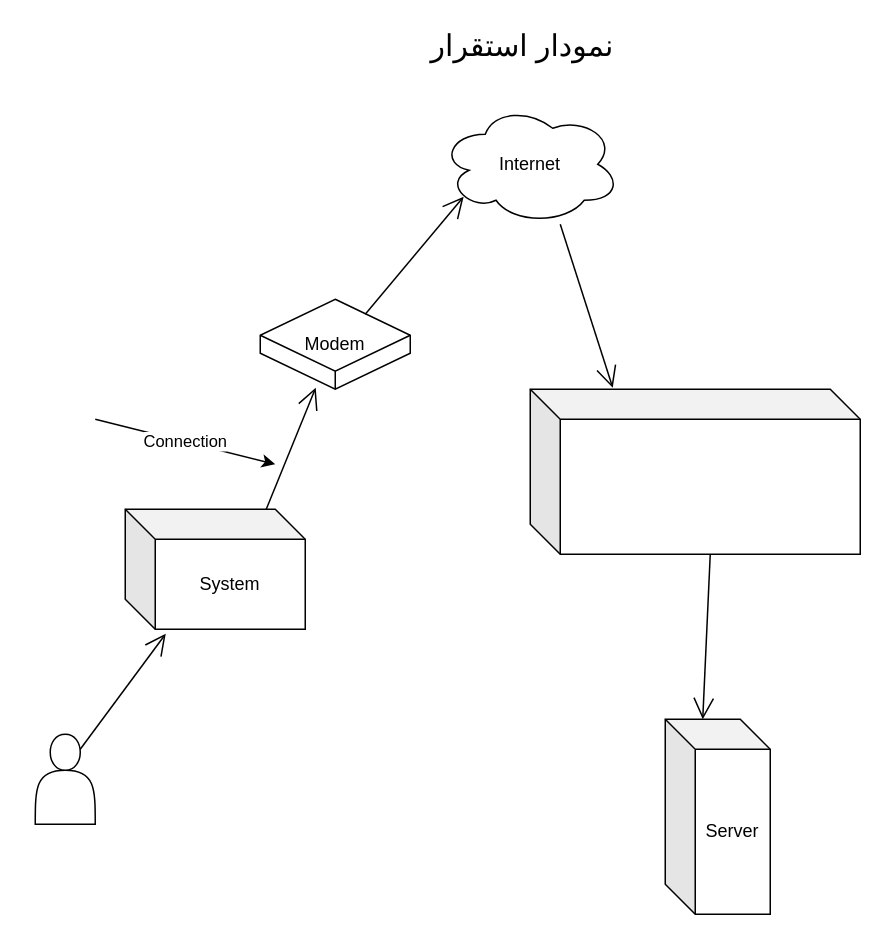
Some shapes in this 887 by 941 pixel diagram are drawn without their labels. Each missing label, with the centre of its shape:
Caching Server: the point at 694,471
Customer: the point at 64,778
